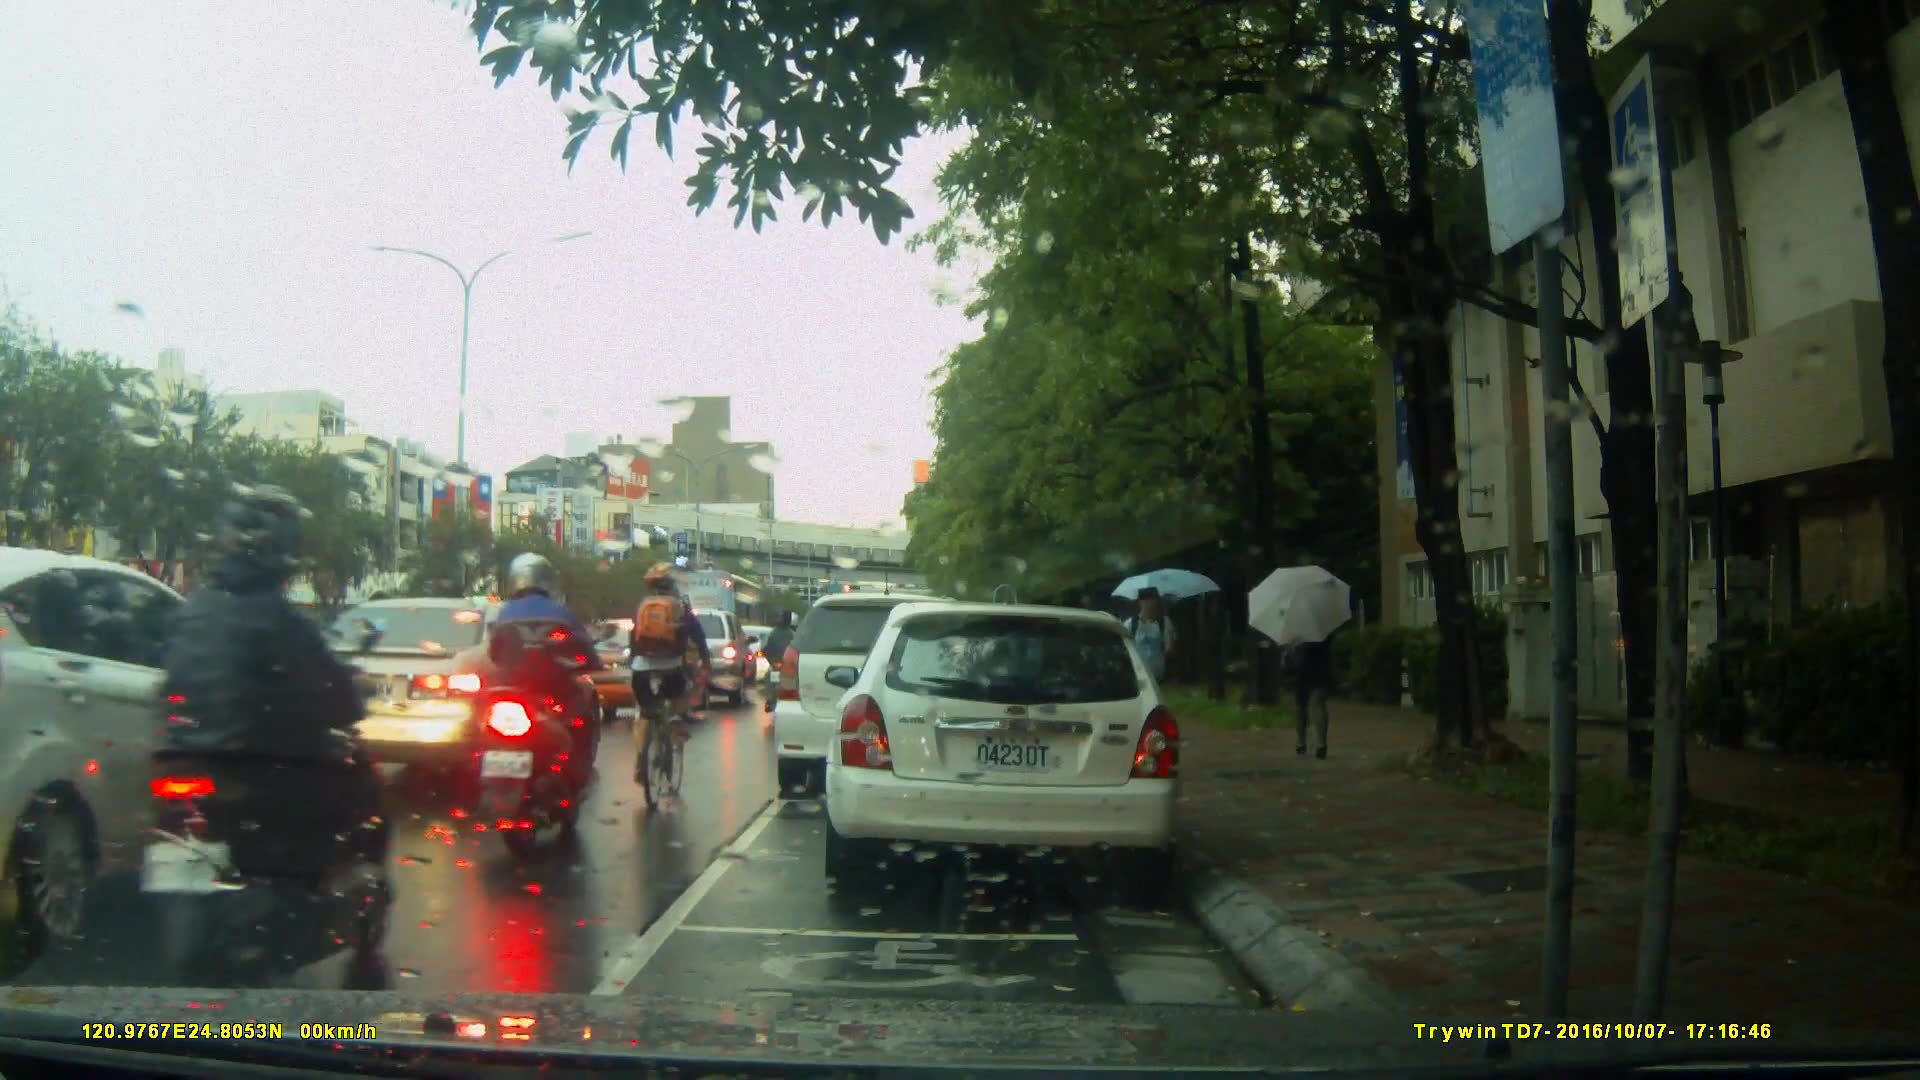pedestrian: (1132, 568, 1189, 784), (1277, 580, 1331, 760)
rider: (136, 482, 395, 1012), (481, 554, 607, 855), (627, 569, 720, 816), (771, 610, 805, 720)
vehicle: (1, 550, 323, 947), (835, 594, 1194, 898), (260, 596, 611, 792), (776, 590, 1026, 784), (560, 619, 708, 725), (657, 567, 773, 673)
